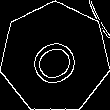O_NE: (23, 27, 87, 89)
